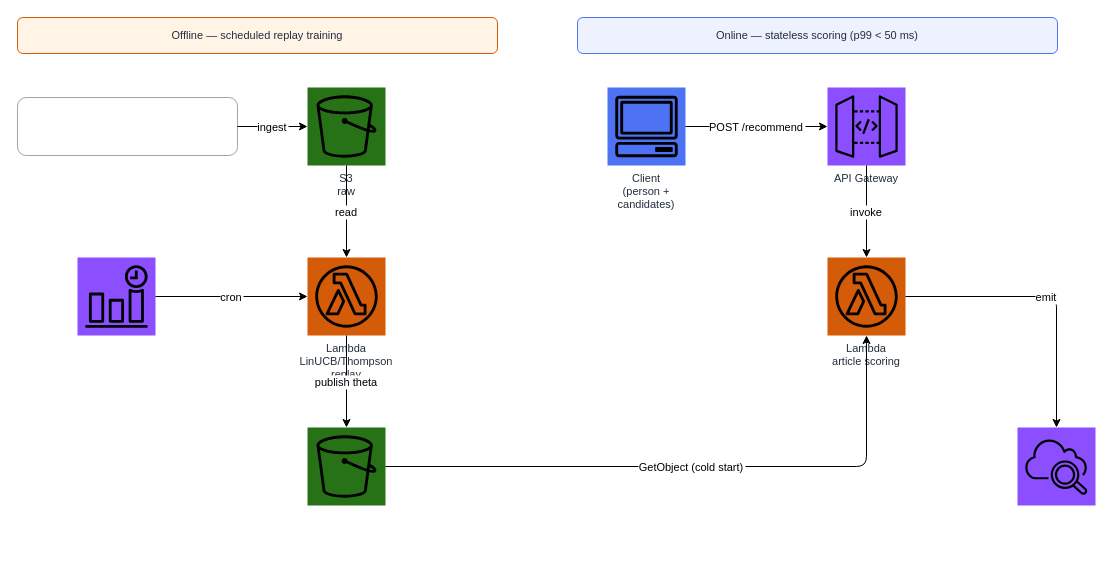
The diagram is 1113 pixels wide and 570 high, and some of its shapes have lost their labels. Here are the shapes that lost their labels. From the top down, the centre of each, then its label:
the point at 127,126: DeskDrop interaction log person, article, event, time
the point at 116,296: EventBridge scheduled trigger
the point at 346,466: S3 policy.json (theta, content)
the point at 1056,466: CloudWatch logs & metrics
